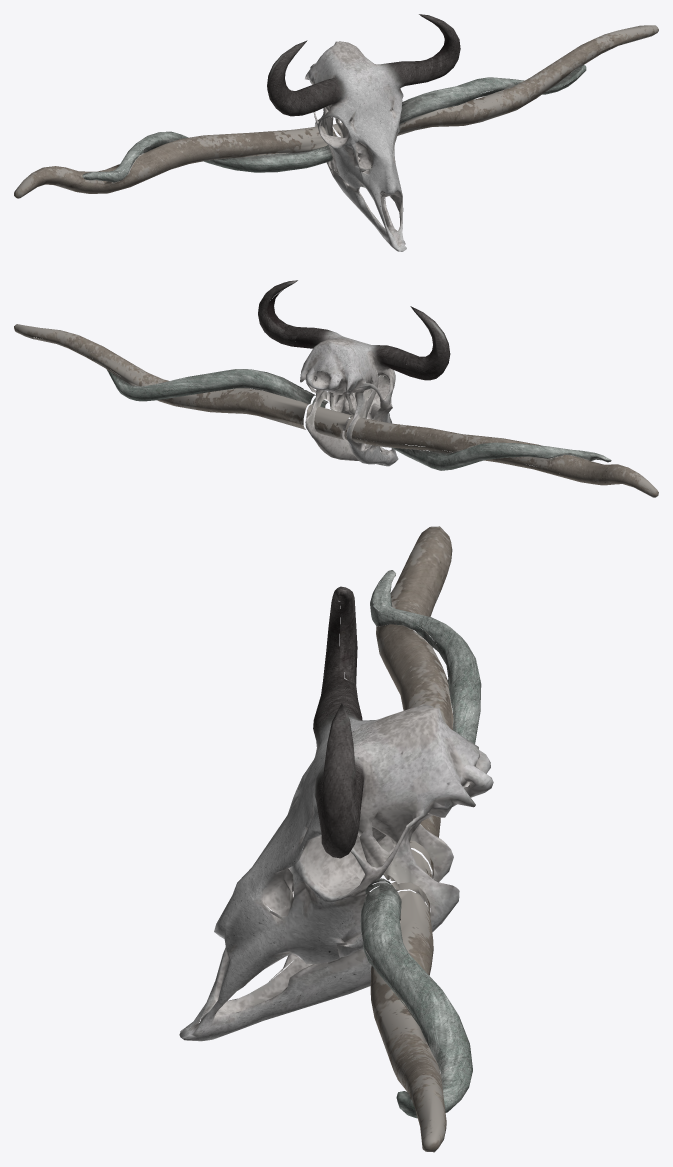
File: palka_13.glb
3 views of the same model, one above another, from view 1: azimuth 30°, elevation 25°; view 2: azimuth 150°, elevation 25°; view 3: azimuth 270°, elevation 25° (orthographic). The views are drawn at different scales.
Parts seen in each view (by area): view 1: palka_13; view 2: palka_13; view 3: palka_13.
Part boxes in pixels (x1,y1,x2,y2): palka_13: (14, 14, 658, 251); palka_13: (14, 280, 658, 497); palka_13: (179, 526, 493, 1152).
Bounding box in the file's own units: 84.2 × 24.66 × 17.82.
3 materials, 3 textured.
